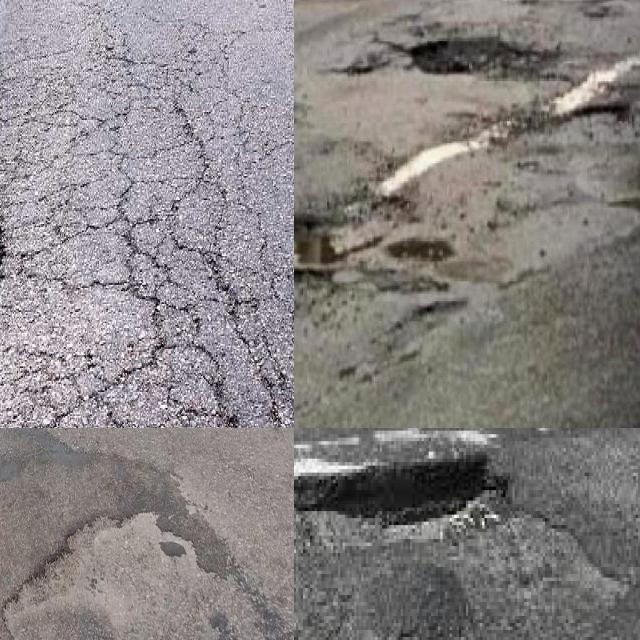Pothole: (0, 507, 221, 640), (294, 431, 505, 529), (373, 293, 478, 363), (409, 37, 564, 83), (294, 215, 381, 265), (350, 259, 454, 295), (332, 43, 396, 83), (387, 238, 455, 259), (580, 0, 621, 18), (608, 198, 640, 209), (520, 0, 538, 5)
